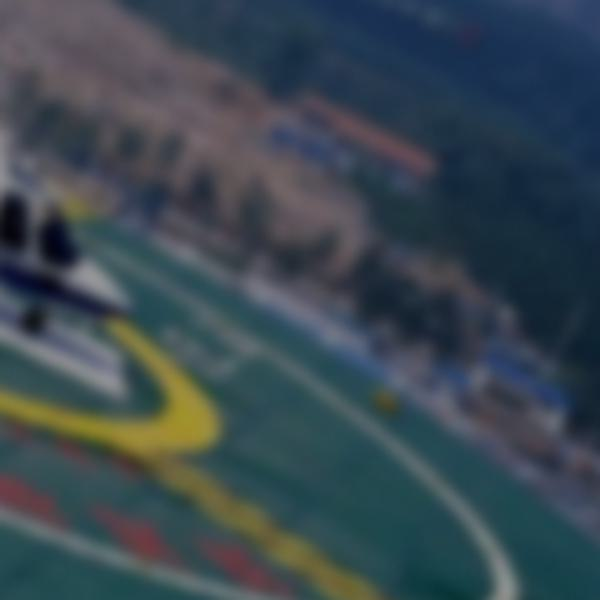Apron: (1, 290, 231, 465)
